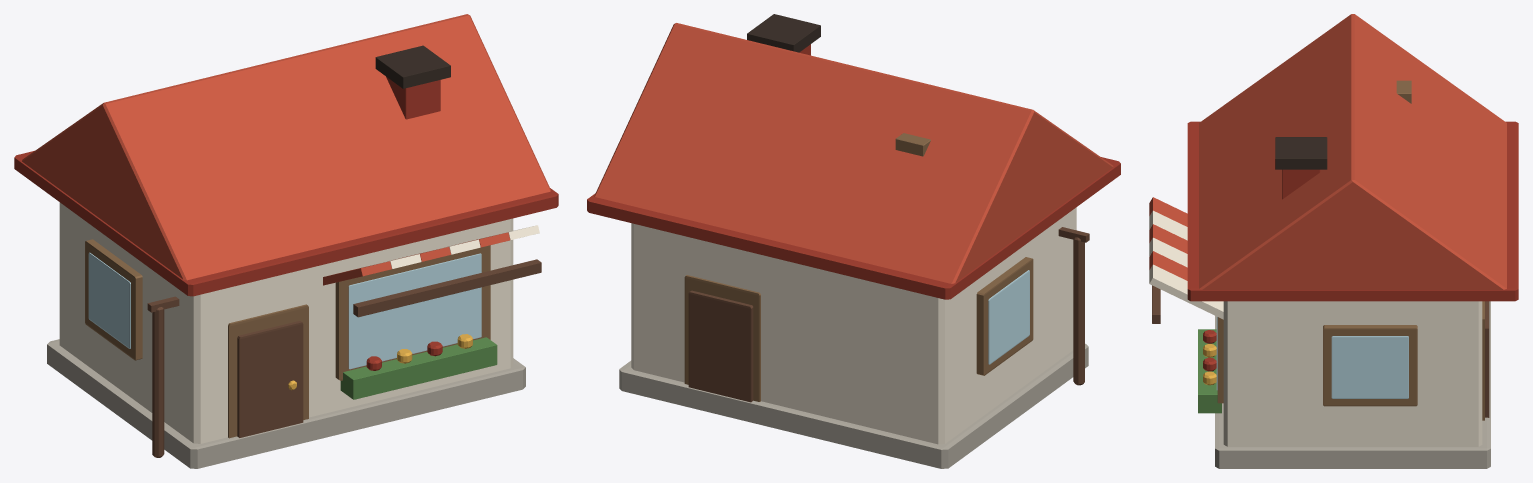
The model's file is cafe.glb.
The picture shows the model from 3 angles, left to right: view 1: azimuth 30°, elevation 25°; view 2: azimuth 150°, elevation 25°; view 3: azimuth 270°, elevation 25°; orthographic projection. The views are drawn at different scales.
Parts seen in each view (by area): view 1: roof, walls, base, roof_trim, win_glass, door, wbox, win_frame, c_sidewinL, door_frame, awn_bar, c_sidewinL_f (+4 smaller); view 2: roof, walls, base, roof_trim, c_backdoor, c_sidewinL, c_sidewinL_f, c_backdoor_f, chimney_cap, sign_post, c_roofvent; view 3: roof, walls, roof_trim, base, c_sidewinR, c_sidewinR_f, chimney_cap, awn5, wbox, chimney, win_frame, c_backdoor (+5 smaller).
Boxes of the visible parts, x1,y1,x2,y2 form: roof: [22, 14, 550, 280]; walls: [59, 202, 513, 443]; base: [47, 339, 525, 468]; roof_trim: [14, 150, 558, 296]; win_glass: [348, 253, 481, 369]; door: [237, 321, 303, 437]; wbox: [340, 337, 497, 399]; win_frame: [335, 245, 490, 380]; c_sidewinL: [88, 252, 130, 348]; door_frame: [228, 304, 308, 438]; awn_bar: [353, 259, 541, 317]; c_sidewinL_f: [85, 239, 142, 360]; roof: [594, 23, 1113, 283]; walls: [631, 207, 1076, 444]; base: [619, 343, 1088, 468]; roof_trim: [587, 157, 1120, 299]; c_backdoor: [688, 290, 753, 402]; c_sidewinL: [988, 270, 1029, 364]; c_sidewinL_f: [976, 257, 1033, 375]; c_backdoor_f: [684, 275, 760, 401]; chimney_cap: [747, 14, 820, 52]; sign_post: [1073, 237, 1084, 385]; c_roofvent: [895, 133, 930, 156]; roof: [1199, 14, 1506, 289]; walls: [1223, 301, 1482, 446]; roof_trim: [1187, 121, 1518, 301]; base: [1215, 301, 1490, 468]; c_sidewinR: [1331, 336, 1408, 398]; c_sidewinR_f: [1323, 325, 1417, 406]; chimney_cap: [1275, 137, 1327, 169]; awn5: [1149, 264, 1223, 319]; wbox: [1198, 329, 1221, 413]; chimney: [1282, 169, 1320, 199]; win_frame: [1217, 317, 1223, 403]; c_backdoor: [1485, 301, 1489, 417].
Size of the model in its own units: 2.33 by 1.89 by 2.14.
